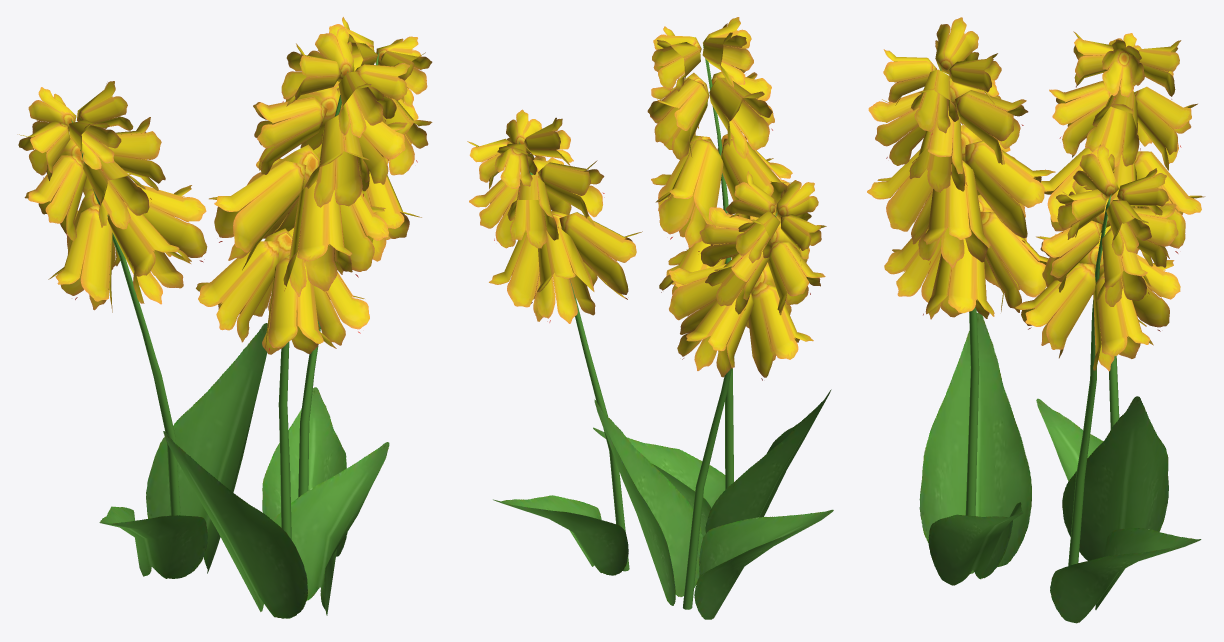
The model's file is flower_4_group.glb.
The picture shows the model from 3 angles, left to right: view 1: azimuth 30°, elevation 25°; view 2: azimuth 150°, elevation 25°; view 3: azimuth 270°, elevation 25°; orthographic projection. The views are drawn at different scales.
Visible parts, largest first — view 1: Flower_4_Group; view 2: Flower_4_Group; view 3: Flower_4_Group.
Boxes of the visible parts, x1,y1,x2,y2 form: Flower_4_Group: (17, 17, 432, 618); Flower_4_Group: (467, 17, 833, 619); Flower_4_Group: (867, 17, 1205, 623).
Size of the model in its own units: 1.78 by 2.49 by 1.37.
2 materials, 2 textured.
